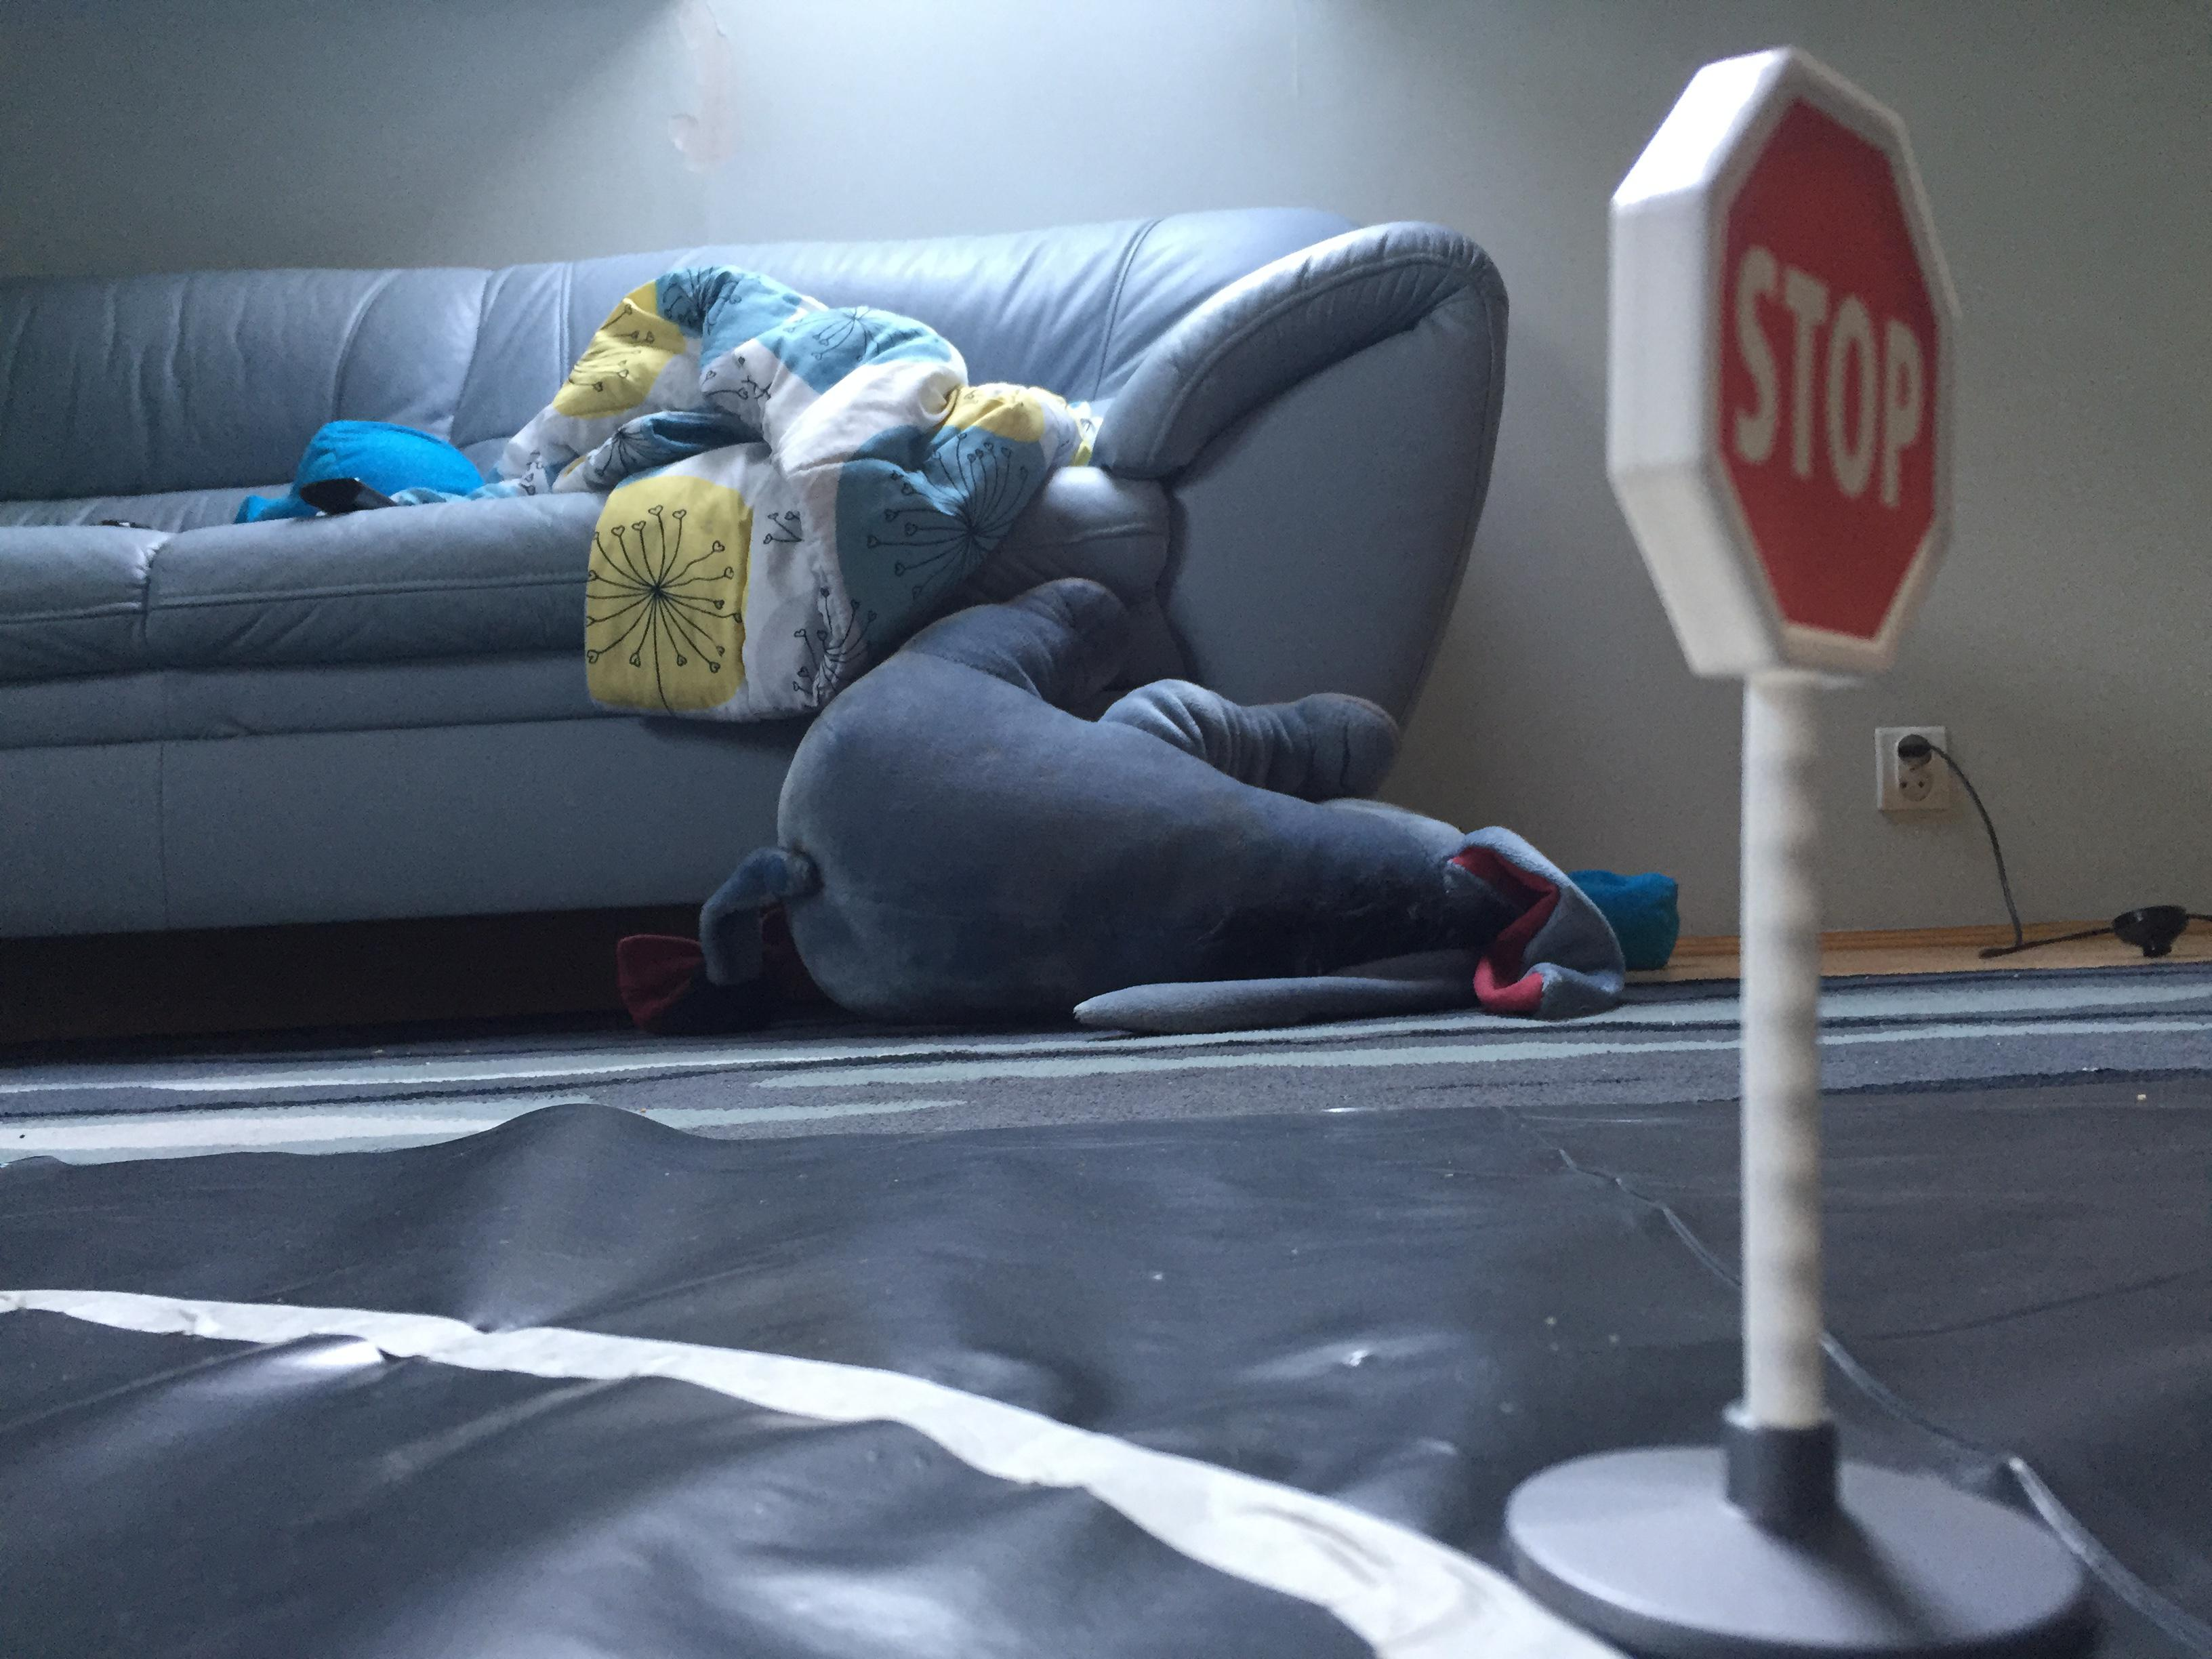stop: (1587, 45, 1973, 701)
